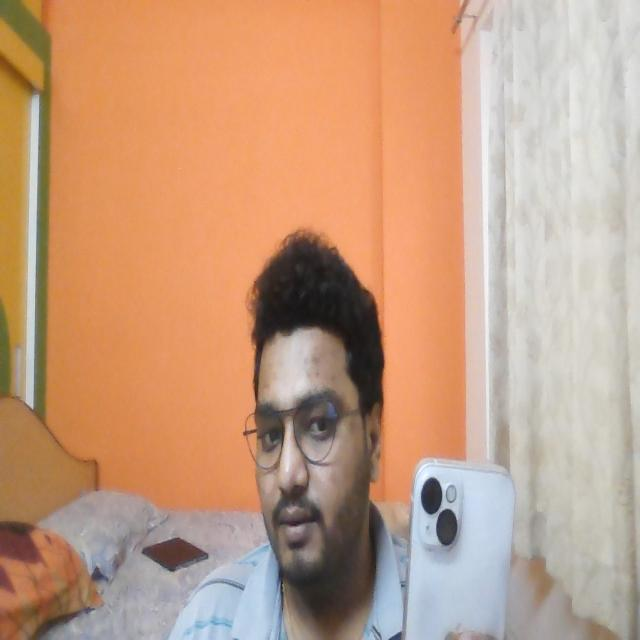phone: (405, 459, 518, 640)
